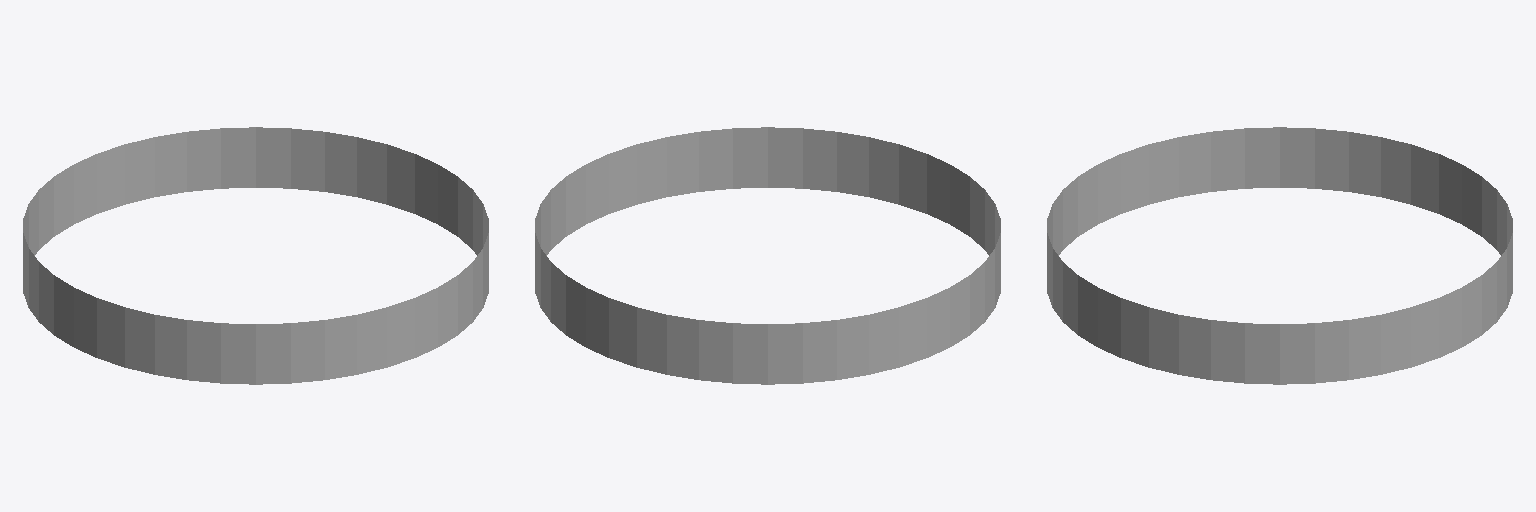
File: 180709 LegCRotation.obj
3 views of the same model, side by side, from view 1: azimuth 30°, elevation 25°; view 2: azimuth 150°, elevation 25°; view 3: azimuth 270°, elevation 25° (orthographic).
Bounding box in the file's own units: 0.07 × 0.01 × 0.0698.